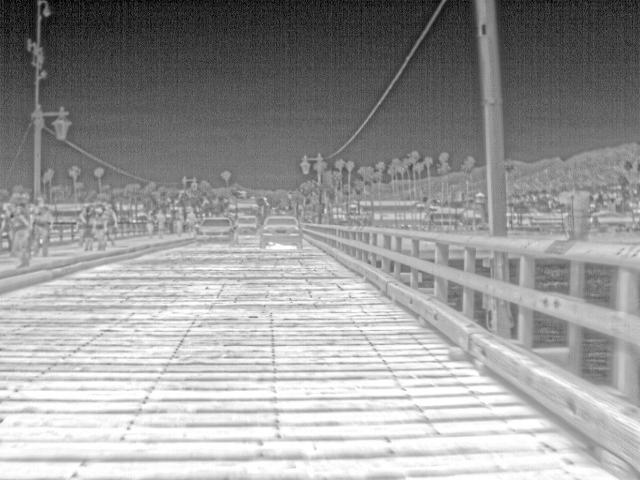car: (257, 212, 304, 248), (194, 216, 237, 246), (237, 213, 259, 237)
person: (10, 204, 32, 268), (32, 198, 52, 256), (91, 204, 109, 252), (102, 200, 119, 246), (80, 204, 96, 252), (152, 206, 169, 241), (172, 205, 188, 237), (144, 208, 156, 239)
